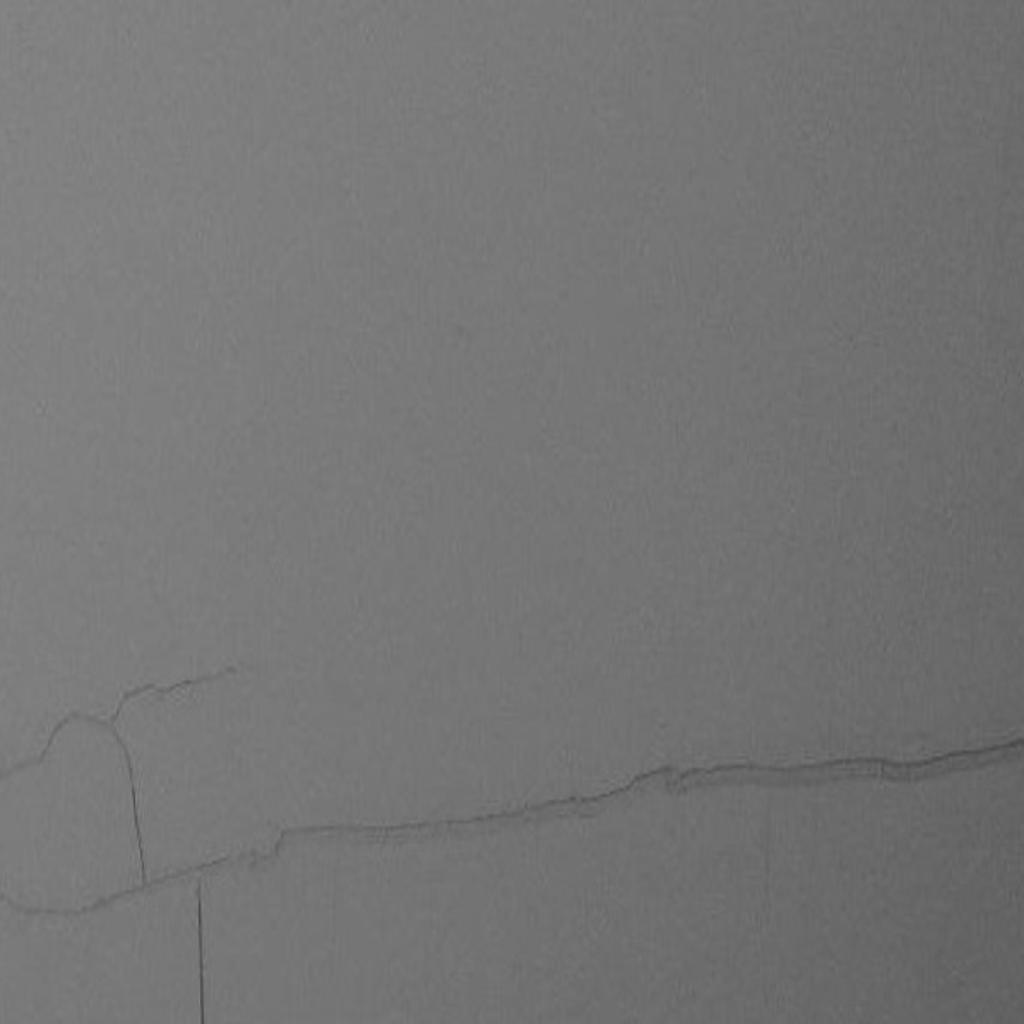hide_craze: (259, 739, 1009, 861), (39, 694, 236, 1024)
